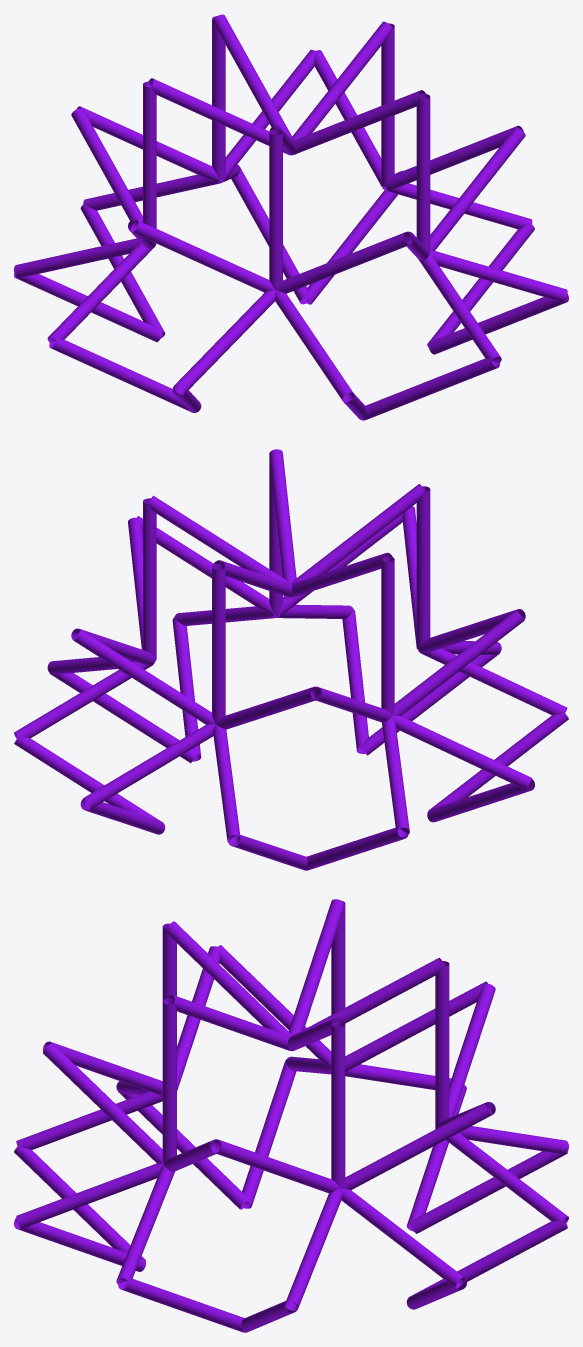
Rendered from trinexus2_2a.glb.
3 renders of one model, top to bottom at view 1: azimuth 30°, elevation 25°; view 2: azimuth 150°, elevation 25°; view 3: azimuth 270°, elevation 25°, orthographic. The views are drawn at different scales.
Visible parts, largest first — view 1: Mesh_38.001; view 2: Mesh_38.001; view 3: Mesh_38.001.
Part boxes in pixels (bbox=[...]): Mesh_38.001: bbox=[14, 14, 568, 420]; Mesh_38.001: bbox=[14, 449, 568, 870]; Mesh_38.001: bbox=[14, 899, 568, 1332].
Bounding box in the file's own units: 4.92 × 2.92 × 4.7.
